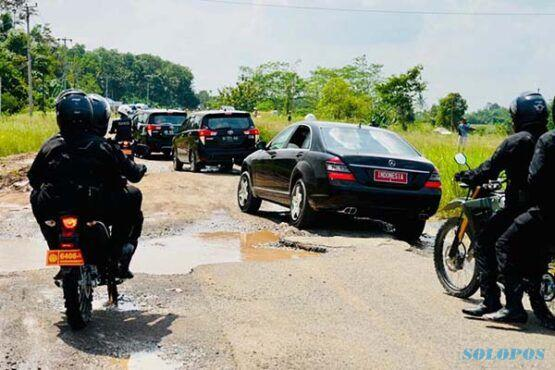Pothole: (93, 153, 369, 310)
